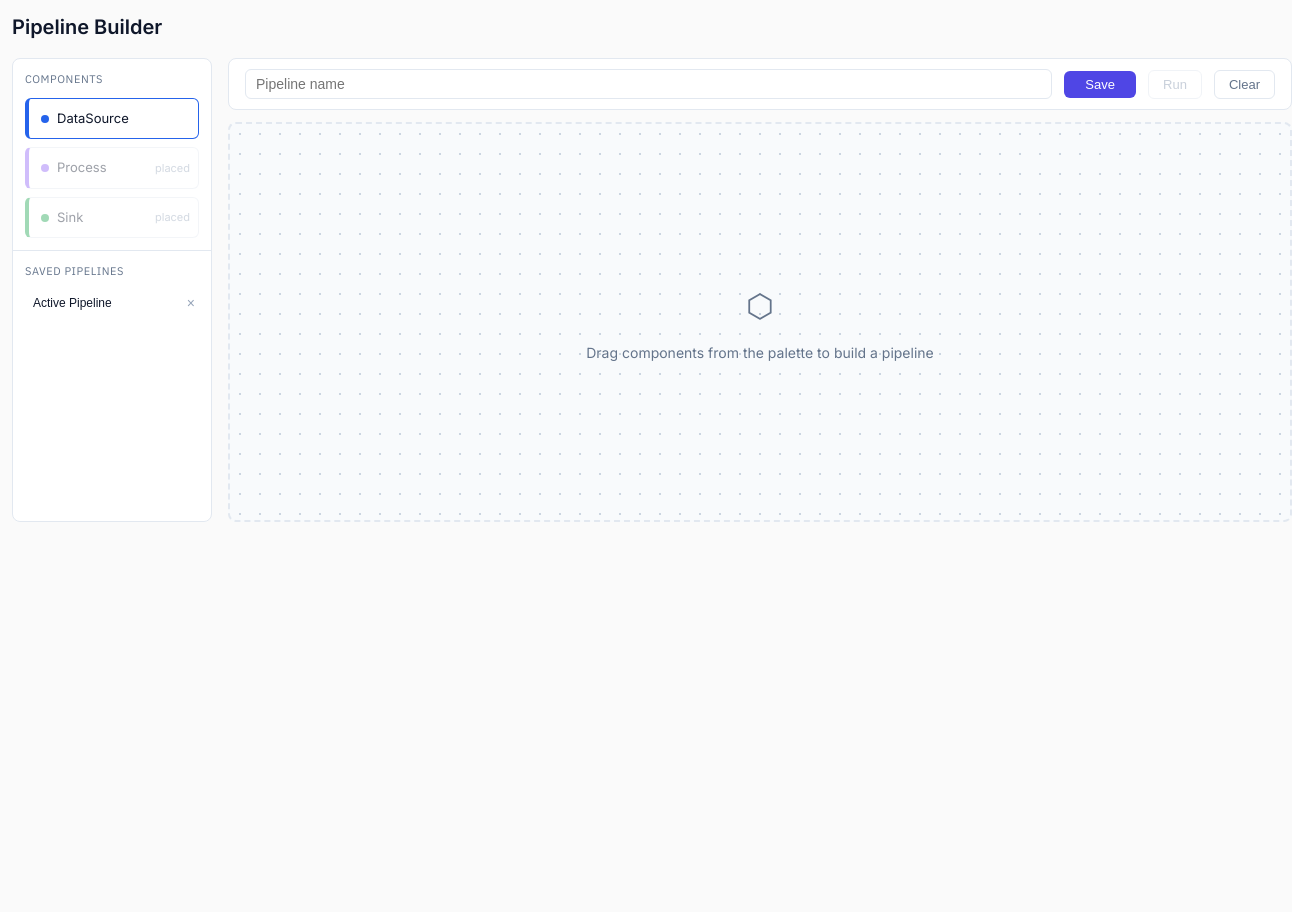
Test: AC4 — delete blocked with explanation when pipeline has active tasks › shows a 409 error toast instead of deleting when pipeline has active tasks
This screenshot has width=1292, height=912.
What coordinates should you click on to do the following:
click the button named "delete pipeline Active Pipeline"
I would click on:
 (191, 302)
Its box is [183, 290, 199, 314].
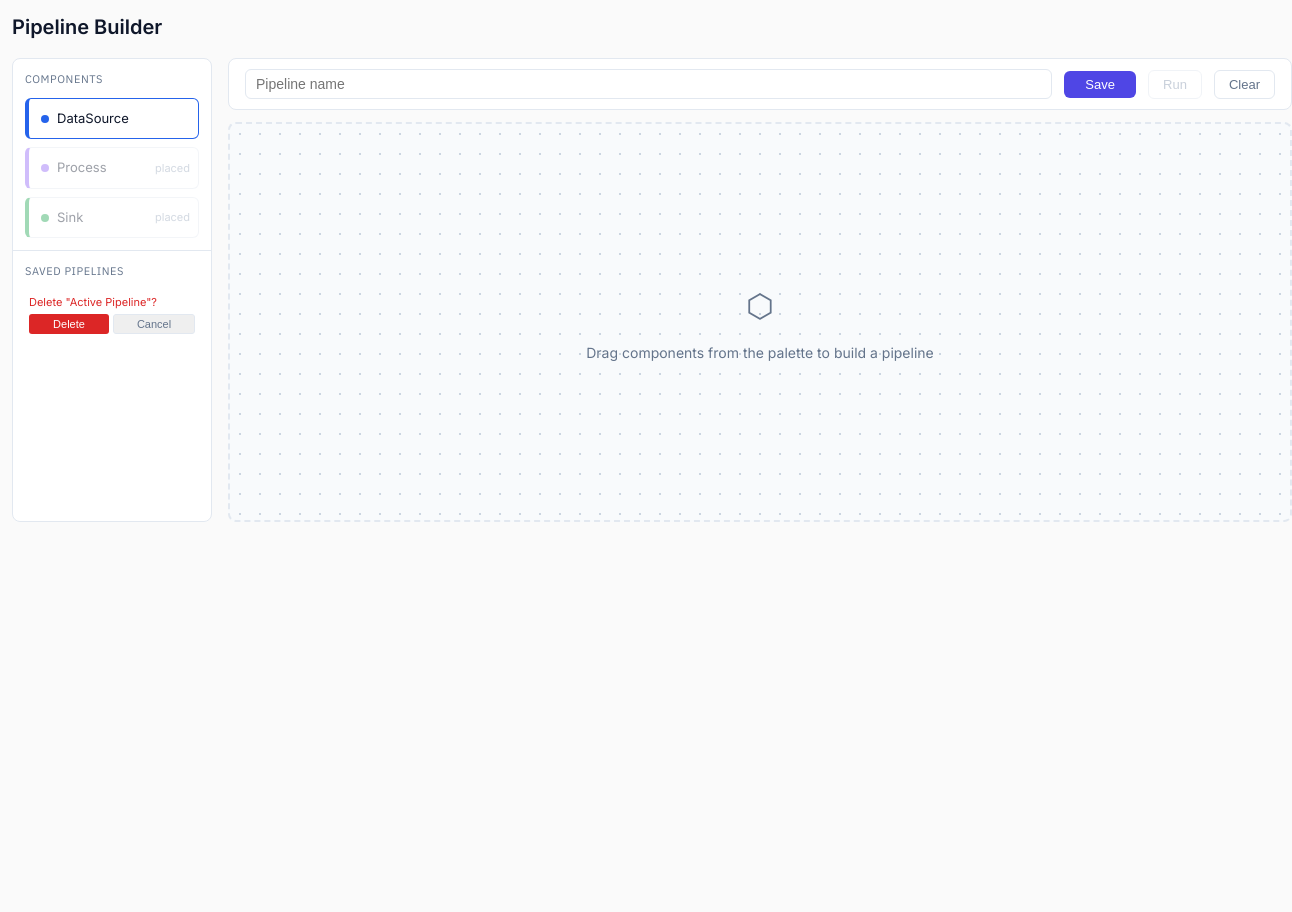
What coordinates should you click on to do the following:
click the button "Delete"
I would click on:
 (69, 324)
Its box is [29, 314, 109, 334].
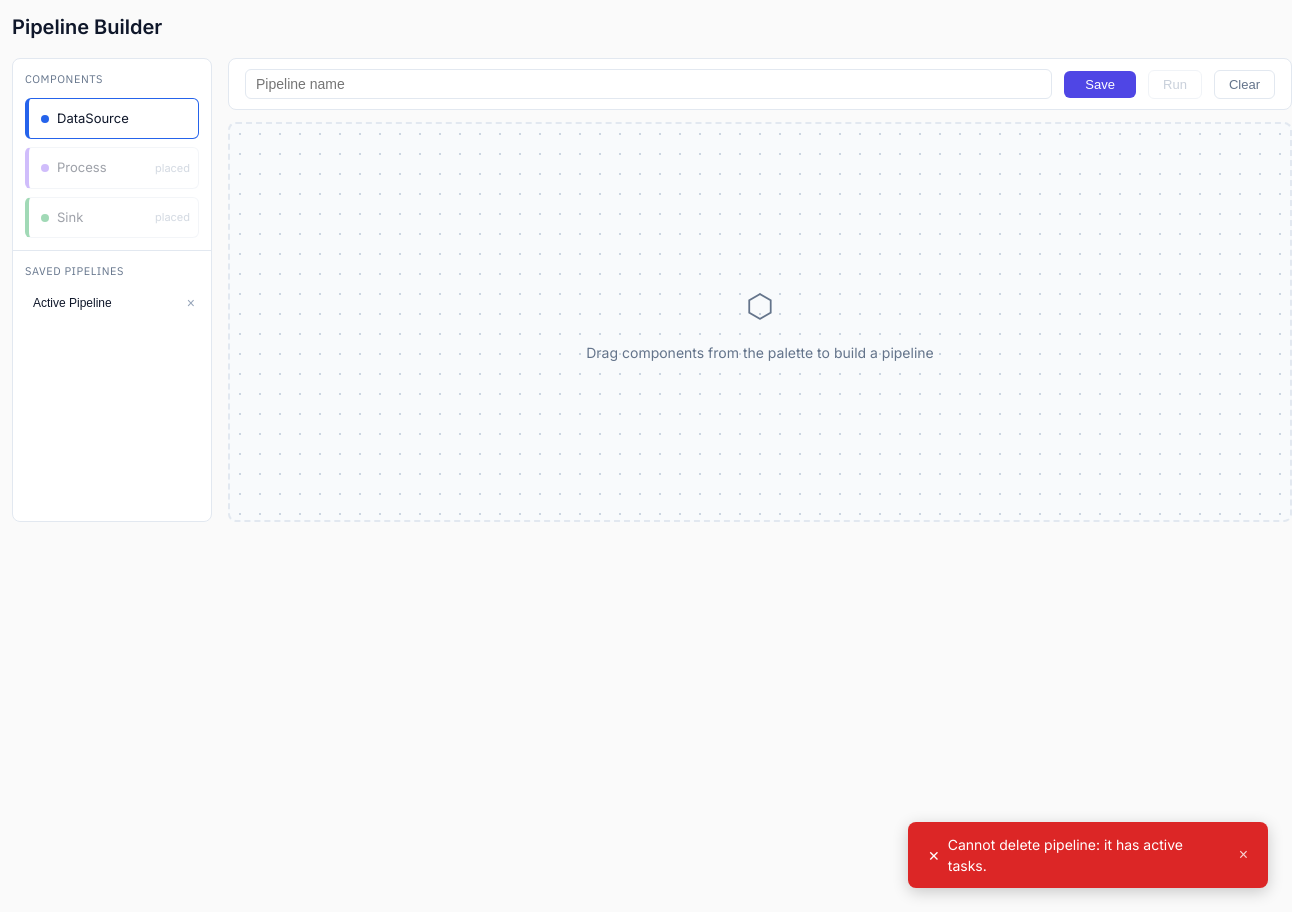
Expected: the message "✕ Cannot delete pipeline: it has active tasks. ×" is shown, [908, 822, 1268, 888]
Expected: the text "Cannot delete pipeline: it has active tasks." is shown, [948, 834, 1223, 876]
